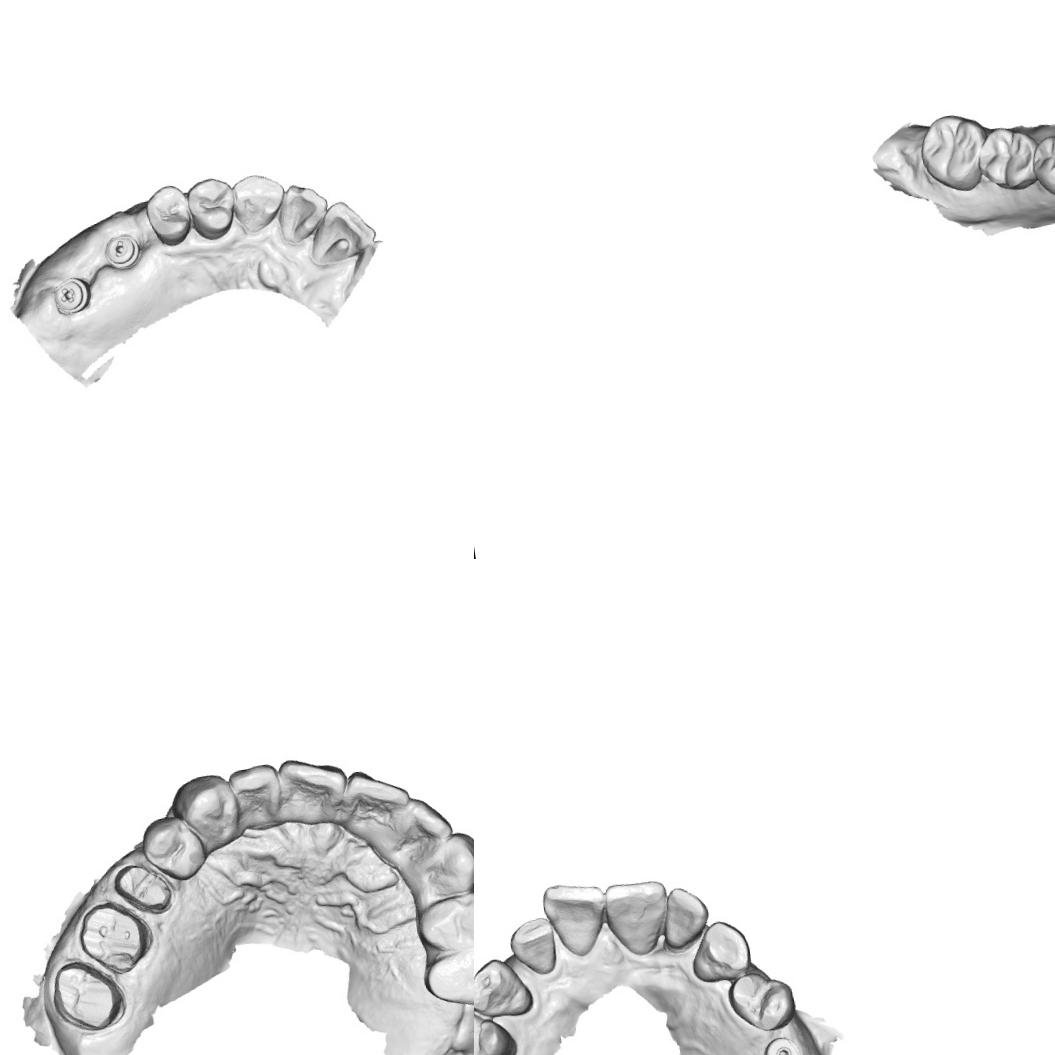canine: (169, 769, 242, 848), (684, 917, 756, 988), (474, 952, 535, 1024), (226, 169, 290, 236), (423, 826, 474, 896)
crown: (70, 894, 158, 982), (47, 952, 128, 1040), (110, 857, 176, 919)
implant: (759, 1033, 804, 1055)
implant_minus: (100, 230, 144, 273)
implant_plus: (49, 273, 93, 319)
incisor: (597, 873, 673, 962), (539, 876, 612, 962), (302, 195, 381, 270), (274, 750, 351, 820), (340, 762, 414, 830), (274, 178, 335, 246), (655, 882, 712, 952), (224, 762, 286, 824), (505, 911, 562, 977), (398, 794, 458, 846)
molar: (915, 108, 994, 198), (972, 122, 1043, 197)
premolar: (722, 967, 798, 1038), (139, 811, 210, 885), (413, 888, 474, 956), (182, 173, 240, 244), (140, 181, 195, 250), (419, 946, 474, 1014), (474, 1000, 518, 1055), (1027, 130, 1055, 201)
